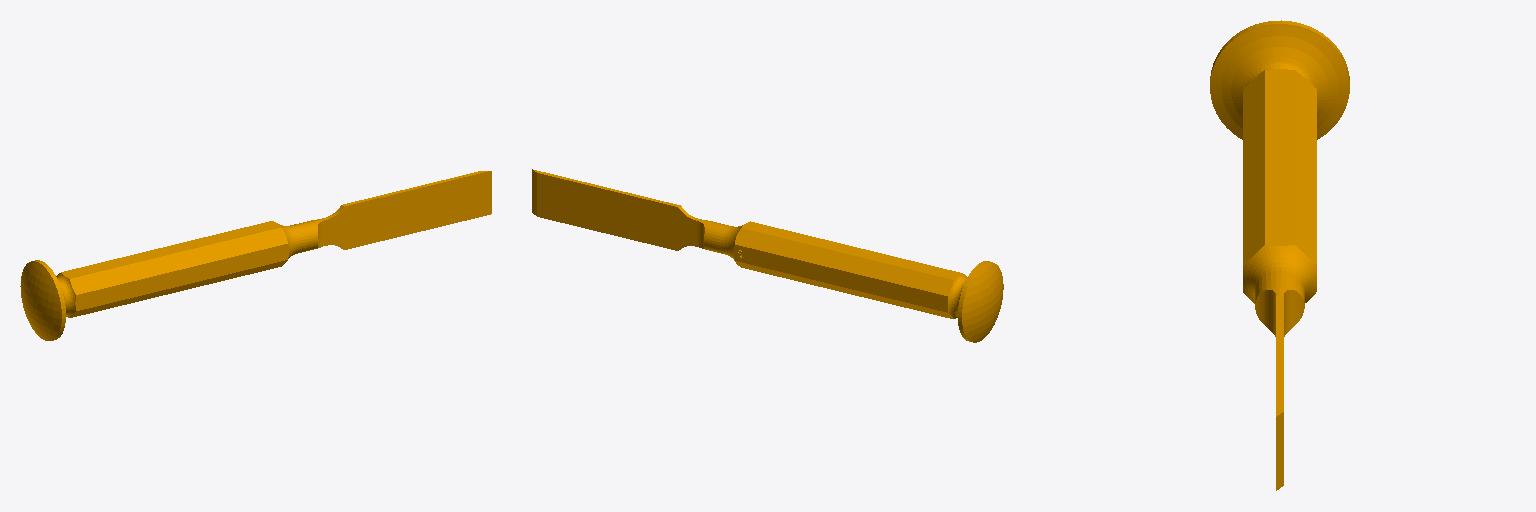
The robot description file, URDF, robot "chisel_3_L0.84_T0.83":
<?xml version="1.0" encoding="utf-8"?>
<robot name="chisel_3_L0.84_T0.83">
  <link name="chisel_3_L0.84_T0.83Link">
    <contact>
      <lateral_friction value="1"/>
    </contact>
    <inertial>
      <origin rpy="0 0 0" xyz="0 0 0"/>
      <mass value="0.0"/>
      <inertia ixx="0" ixy="0" ixz="0" iyy="0" iyz="0" izz="0"/>
    </inertial>
    <visual>
      <origin rpy="0 0 0" xyz="0 0 0"/>
      <geometry>
        <mesh filename="generated_stl/chisel/chisel_3/chisel_3_L0.84_T0.83/chisel_3_L0.84_T0.83.stl" scale="0.01 0.01 0.01"/>
      </geometry>
    </visual>
    <collision>
      <origin rpy="0 0 0" xyz="0 0 0"/>
      <geometry>
        <mesh filename="generated_stl/chisel/chisel_3/chisel_3_L0.84_T0.83/chisel_3_L0.84_T0.83.stl" scale="0.01 0.01 0.01"/>
      </geometry>
    </collision>
  </link>
</robot>

--- What the picture shows (computed from the rendered views, not written in the file) ---
3 views of the same robot in one strip: view 1: azimuth 30°, elevation 25°; view 2: azimuth 150°, elevation 25°; view 3: azimuth 270°, elevation 25° (orthographic).
Model chisel_3_L0.84_T0.83 with 1 links and 0 joints (none), rooted at chisel_3_L0.84_T0.83Link, posed every joint at zero.
Links seen in each view (by area): view 1: chisel_3_L0.84_T0.83Link; view 2: chisel_3_L0.84_T0.83Link; view 3: chisel_3_L0.84_T0.83Link.
Link boxes in pixels (left/top/right/bottom): chisel_3_L0.84_T0.83Link: left=20, top=171, right=491, bottom=340; chisel_3_L0.84_T0.83Link: left=532, top=169, right=1003, bottom=342; chisel_3_L0.84_T0.83Link: left=1210, top=20, right=1349, bottom=490.
Bounding box of the posed robot: 0.0668 × 0.0105 × 0.0104 m (x, y, z).
Meshes: 1 distinct files referenced, 1 mesh visuals loaded (1 binary STL).